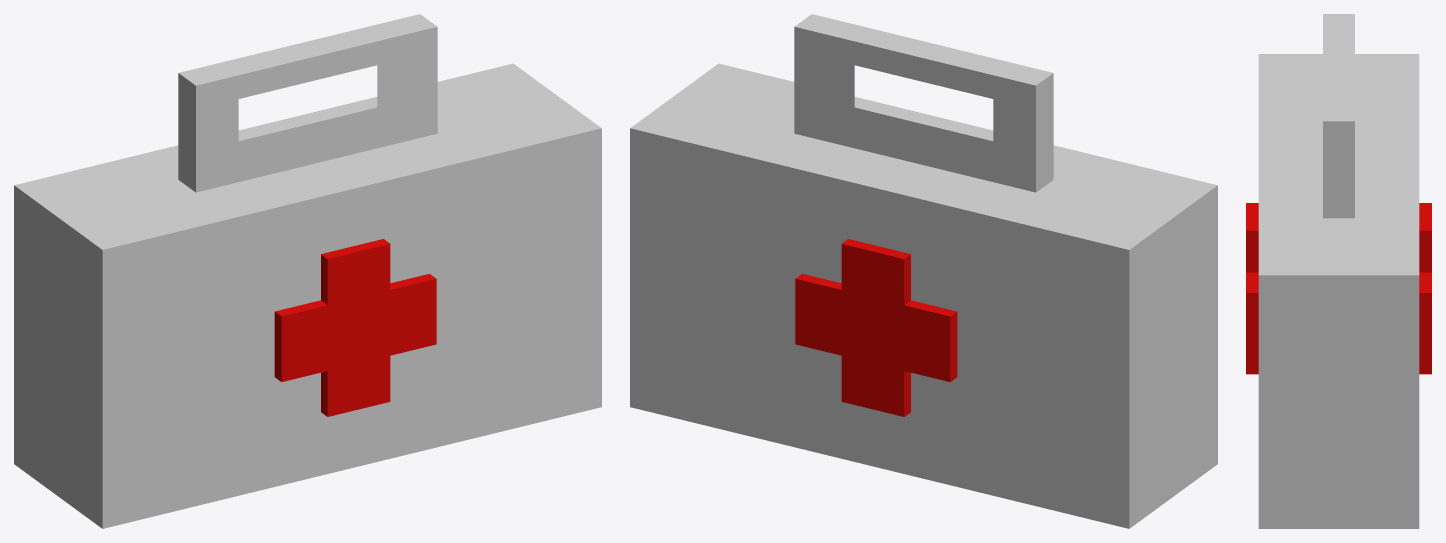
File: Botiquin.fbx
3 views of the same model, side by side, from view 1: azimuth 30°, elevation 25°; view 2: azimuth 150°, elevation 25°; view 3: azimuth 270°, elevation 25° (orthographic). The views are drawn at different scales.
Parts seen in each view (by area): view 1: Cube; view 2: Cube; view 3: Cube.
Boxes of the visible parts, box(x1,y1,x2,y2) form: Cube: box(14, 14, 601, 528); Cube: box(630, 14, 1217, 528); Cube: box(1246, 14, 1431, 528).
Size of the model in its own units: 375 by 277 by 133.
